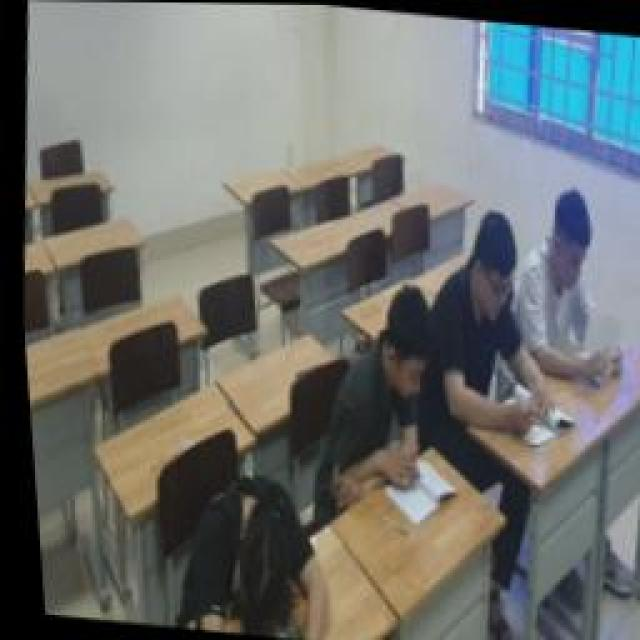sleep: (155, 470, 330, 640)
study: (415, 200, 563, 445), (308, 270, 442, 502), (500, 182, 622, 388)
